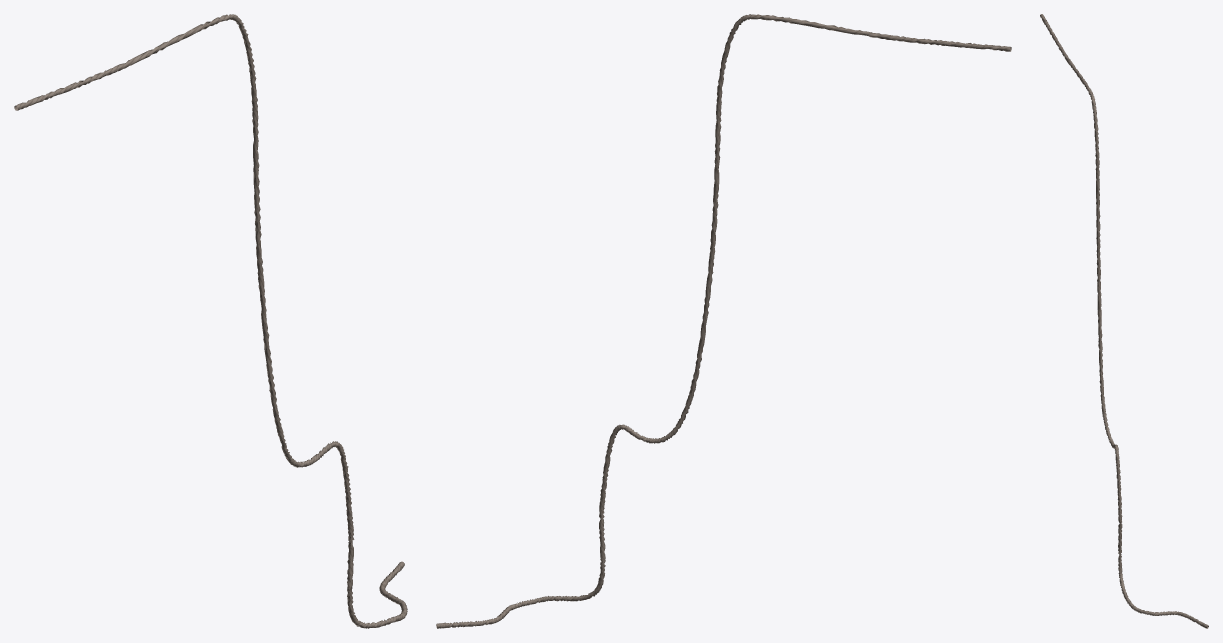
File: SM_RopeSplineMesh_Splines_25.fbx
The picture shows the model from 3 angles, left to right: view 1: azimuth 30°, elevation 25°; view 2: azimuth 150°, elevation 25°; view 3: azimuth 270°, elevation 25°; orthographic projection. The views are drawn at different scales.
Visible parts, largest first — view 1: SM_RopeSplineMesh_Splines_25; view 2: SM_RopeSplineMesh_Splines_25; view 3: SM_RopeSplineMesh_Splines_25.
Part boxes in pixels (x1,y1,x2,y2): SM_RopeSplineMesh_Splines_25: (14,14,407,628); SM_RopeSplineMesh_Splines_25: (436,14,1011,628); SM_RopeSplineMesh_Splines_25: (1040,14,1208,628).
Size of the model in its own units: 238 by 102 by 302.
